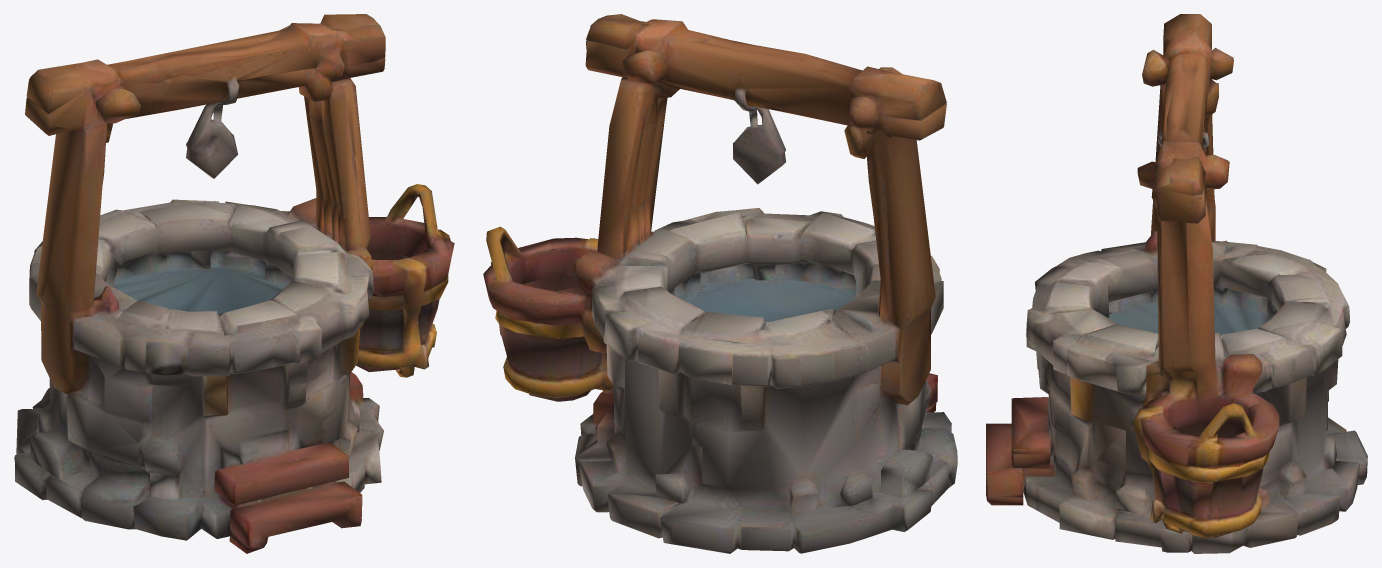
File: poco_pedra_lod1.glb
3 renders of one model, left to right at view 1: azimuth 30°, elevation 25°; view 2: azimuth 150°, elevation 25°; view 3: azimuth 270°, elevation 25°, orthographic. The views are drawn at different scales.
Visible parts, largest first — view 1: tripo_node_642aa9a0-0b8b-4c5b-acc3-d7ebce1384cf; view 2: tripo_node_642aa9a0-0b8b-4c5b-acc3-d7ebce1384cf; view 3: tripo_node_642aa9a0-0b8b-4c5b-acc3-d7ebce1384cf.
Boxes of the visible parts, bbox=[...] form: tripo_node_642aa9a0-0b8b-4c5b-acc3-d7ebce1384cf: bbox=[14, 14, 454, 553]; tripo_node_642aa9a0-0b8b-4c5b-acc3-d7ebce1384cf: bbox=[483, 14, 957, 553]; tripo_node_642aa9a0-0b8b-4c5b-acc3-d7ebce1384cf: bbox=[986, 14, 1367, 553].
Bounding box in the file's own units: 0.9778 × 0.9433 × 0.8247.
Materials: 1 (1 with a texture image).
